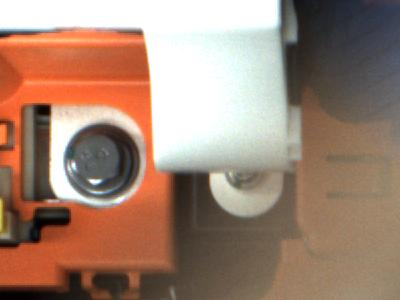nut_b: (62, 129, 143, 197)
